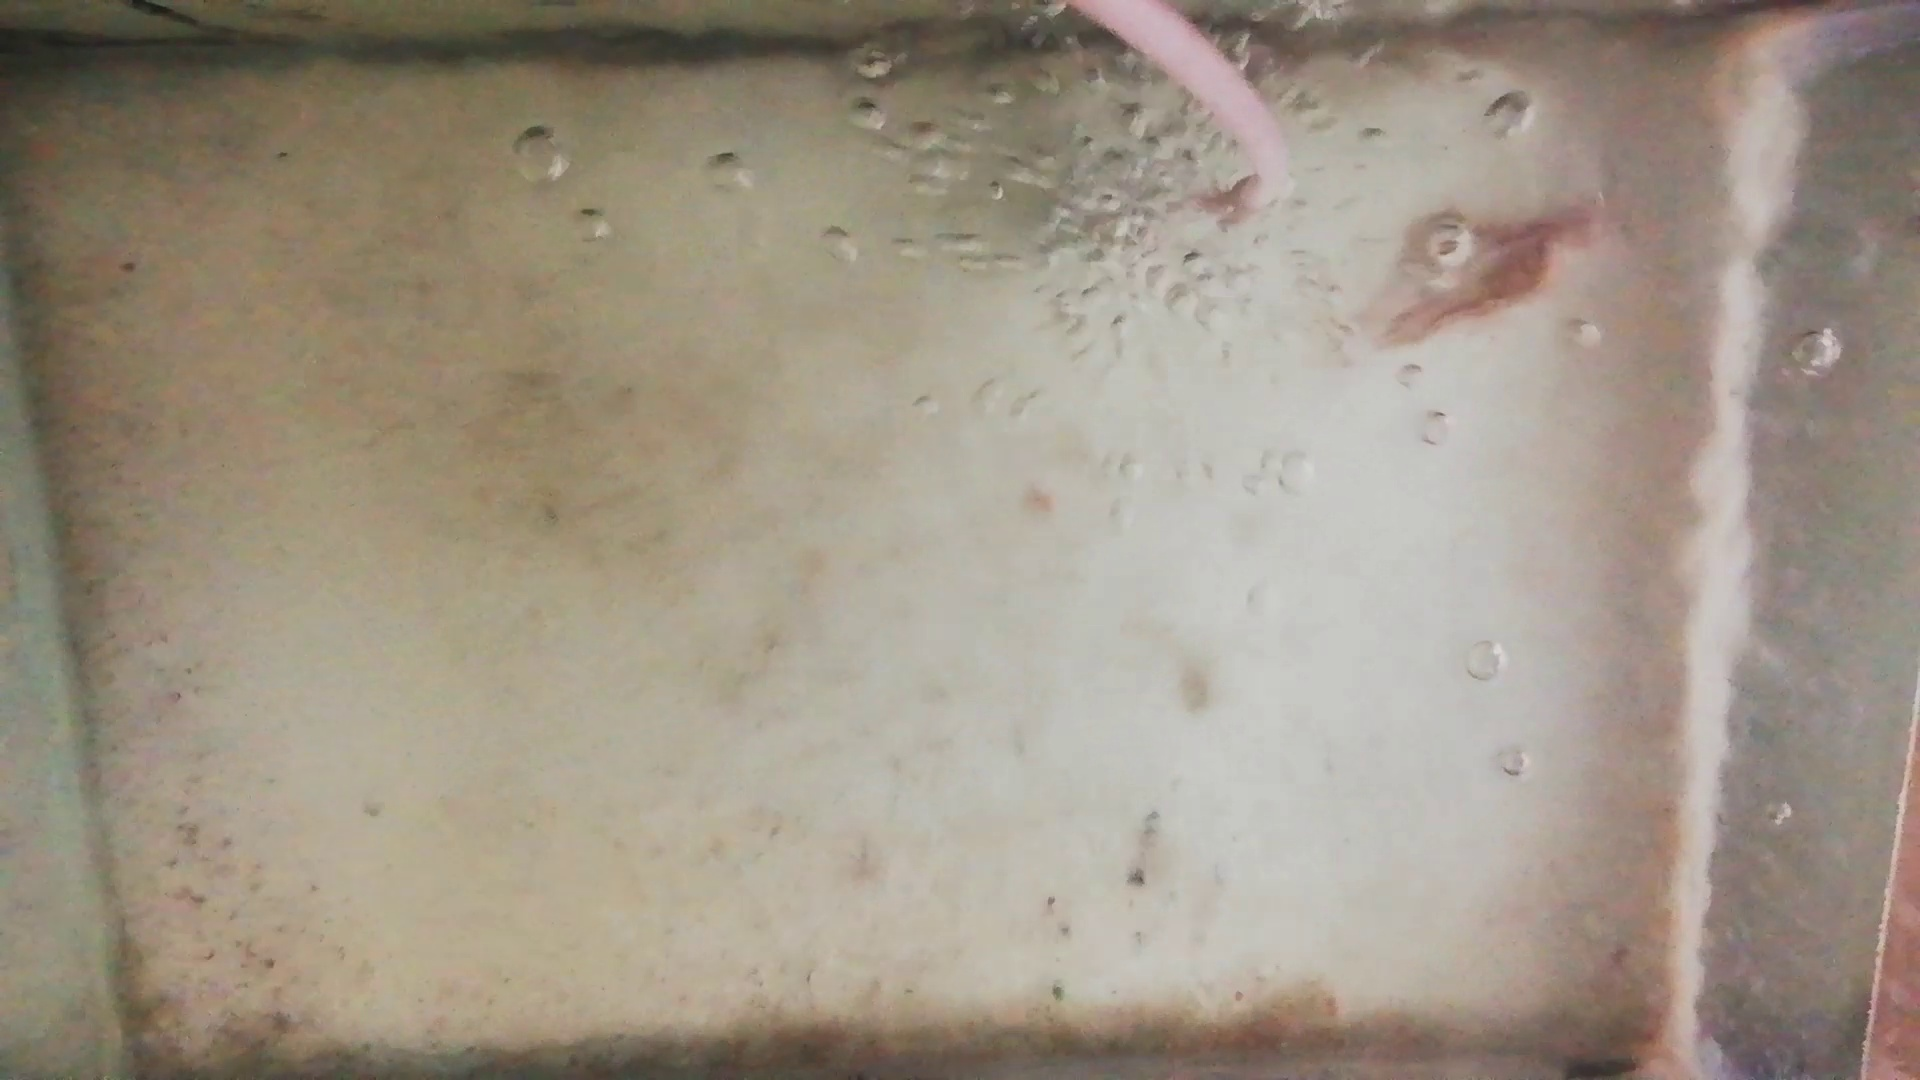fish: (1378, 251, 1552, 339), (1432, 206, 1602, 248)
